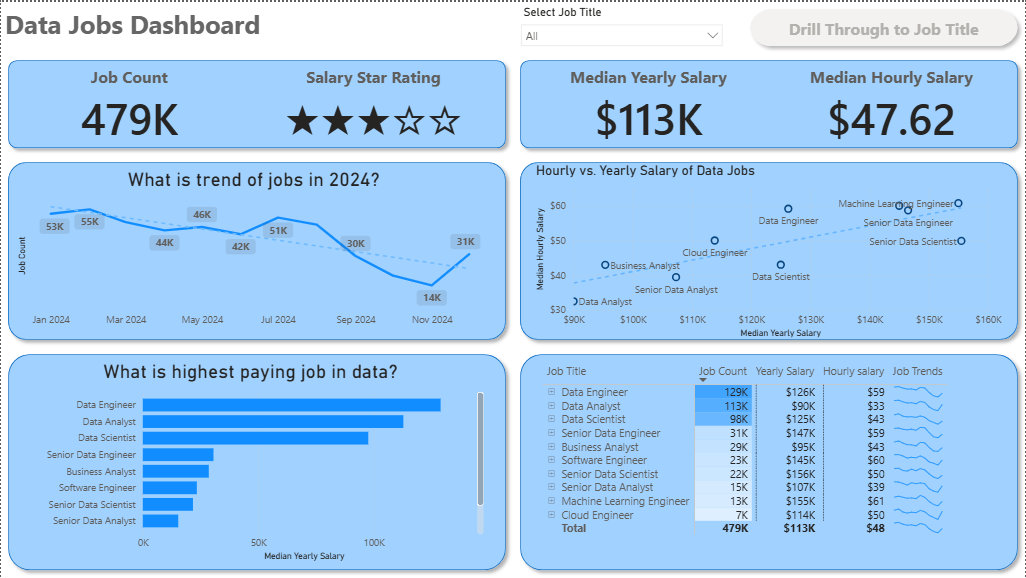

This screenshot's page, from the dashboard's own definition file:
{"tool":"powerbi","page":{"name":"Data Jobs Dashboard","canvas":[1280,720],"ordinal":0},"visuals":[{"type":"group","id":"g1","title":"Background","box":[0,64,1280,656],"z":0},{"type":"shape","box":[0,64,640,128],"z":0,"group":"g1"},{"type":"textbox","box":[0,0,336,64],"z":1000},{"type":"shape","box":[640,64,640,128],"z":1000,"group":"g1"},{"type":"slicer","fields":{"Values":["job_postings_flat.job_title_short"]},"box":[640,0,272,64],"z":2000},{"type":"shape","box":[0,192,640,240],"z":2000,"group":"g1"},{"type":"cardVisual","fields":{"Data":["Median(job_postings_flat.salary_year_avg)"]},"box":[656,64,304,128],"z":3000},{"type":"shape","box":[640,192,640,240],"z":3000,"group":"g1"},{"type":"cardVisual","fields":{"Data":["Median(job_postings_flat.salary_hour_avg)"]},"box":[960,64,304,128],"z":4000},{"type":"shape","box":[0,432,640,288],"z":4000,"group":"g1"},{"type":"cardVisual","fields":{"Data":["job_postings_flat.Salary Star Rating"]},"box":[312,64,304,128],"z":5000},{"type":"shape","box":[640,432,640,288],"z":5000,"group":"g1"},{"type":"cardVisual","fields":{"Data":["CountNonNull(job_postings_flat.job_title_short)"]},"box":[8,64,304,128],"z":6000},{"type":"lineChart","title":"What is trend of jobs in 2024?","fields":{"Y":["CountNonNull(job_postings_flat.job_title_short)"],"Category":["job_postings_flat.job_posted_date.Variation.Date Hierarchy.Year","job_postings_flat.job_posted_date.Variation.Date Hierarchy.Quarter","job_postings_flat.job_posted_date.Variation.Date Hierarchy.Month","job_postings_flat.job_posted_date.Variation.Date Hierarchy.Day"]},"box":[16,208,600,208],"z":7000},{"type":"barChart","title":"What is highest paying job in data?","fields":{"Category":["job_postings_flat.job_title_short"],"Y":["CountNonNull(job_postings_flat.job_title_short)"]},"box":[16,448,592,256],"z":8000},{"type":"scatterChart","title":"Hourly vs. Yearly Salary of Data Jobs","fields":{"X":["Median(job_postings_flat.salary_year_avg)"],"Y":["Median(job_postings_flat.salary_hour_avg)"],"Series":["job_postings_flat.job_title_short"]},"box":[664,200,592,224],"z":9000},{"type":"pivotTable","fields":{"Rows":["job_postings_flat.job_title_short","job_postings_flat.job_posted_date.Variation.Date Hierarchy.Quarter"],"Values":["CountNonNull(job_postings_flat.job_title_short)","Median(job_postings_flat.salary_year_avg)","Median(job_postings_flat.salary_hour_avg)","SparklineData(CountNonNull(job_postings_flat.job_title_short)_[job_postings_flat.job_posted_date.Variation.Date Hierarch"]},"box":[672,448,584,224],"z":10000},{"type":"actionButton","box":[928,0,352,64],"z":11000}]}

Visuals, with their boxes in screenshot pixels (x1, y1, x2, y2), scaled from the page's 1280x720 canvas onto the 1026x578 screenshot:
"Background" group: [0, 51, 1025, 577]
shape: [0, 51, 513, 154]
textbox: [0, 0, 269, 51]
shape: [513, 51, 1025, 154]
slicer - job_postings_flat.job_title_short: [513, 0, 731, 51]
shape: [0, 154, 513, 347]
cardVisual - Median(job_postings_flat.salary_year_avg): [526, 51, 770, 154]
shape: [513, 154, 1025, 347]
cardVisual - Median(job_postings_flat.salary_hour_avg): [770, 51, 1013, 154]
shape: [0, 347, 513, 577]
cardVisual - job_postings_flat.Salary Star Rating: [250, 51, 494, 154]
shape: [513, 347, 1025, 577]
cardVisual - CountNonNull(job_postings_flat.job_title_short): [6, 51, 250, 154]
"What is trend of jobs in 2024?" lineChart: [13, 167, 494, 334]
"What is highest paying job in data?" barChart: [13, 360, 487, 565]
"Hourly vs. Yearly Salary of Data Jobs" scatterChart: [532, 161, 1007, 340]
pivotTable - job_postings_flat.job_title_short x job_postings_flat.job_posted_date.Variation.Date Hierarchy.Quarter: [539, 360, 1007, 539]
actionButton: [744, 0, 1025, 51]
